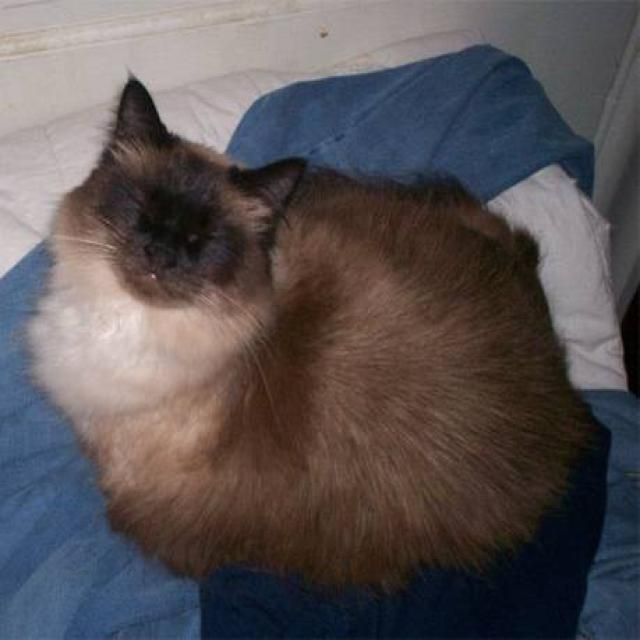cat: (22, 68, 608, 592)
